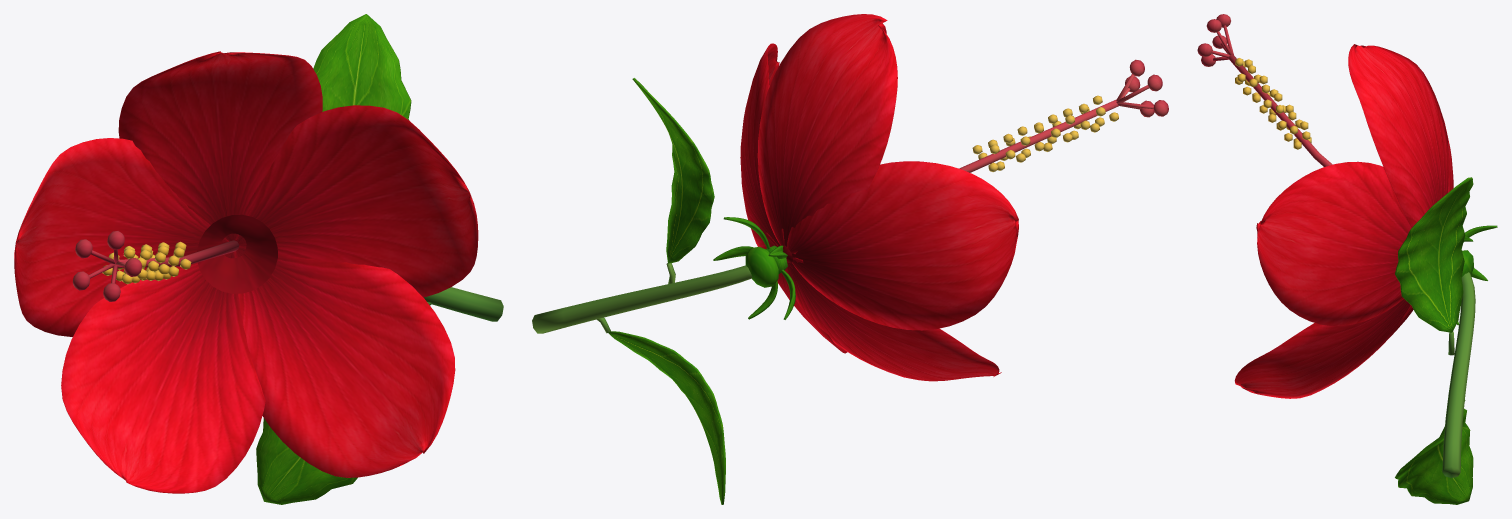
The model's file is NP_Hibiscus_Harvest.fbx.
3 views of the same model, side by side, from view 1: azimuth 30°, elevation 25°; view 2: azimuth 150°, elevation 25°; view 3: azimuth 270°, elevation 25° (orthographic). The views are drawn at different scales.
Visible parts, largest first — view 1: NP_Hibiscus_Harvest; view 2: NP_Hibiscus_Harvest; view 3: NP_Hibiscus_Harvest.
Boxes of the visible parts, x1,y1,x2,y2 form: NP_Hibiscus_Harvest: [14, 14, 503, 504]; NP_Hibiscus_Harvest: [532, 14, 1168, 504]; NP_Hibiscus_Harvest: [1197, 14, 1497, 504].
Bounding box in the file's own units: 45.16 × 39.7 × 26.13.
